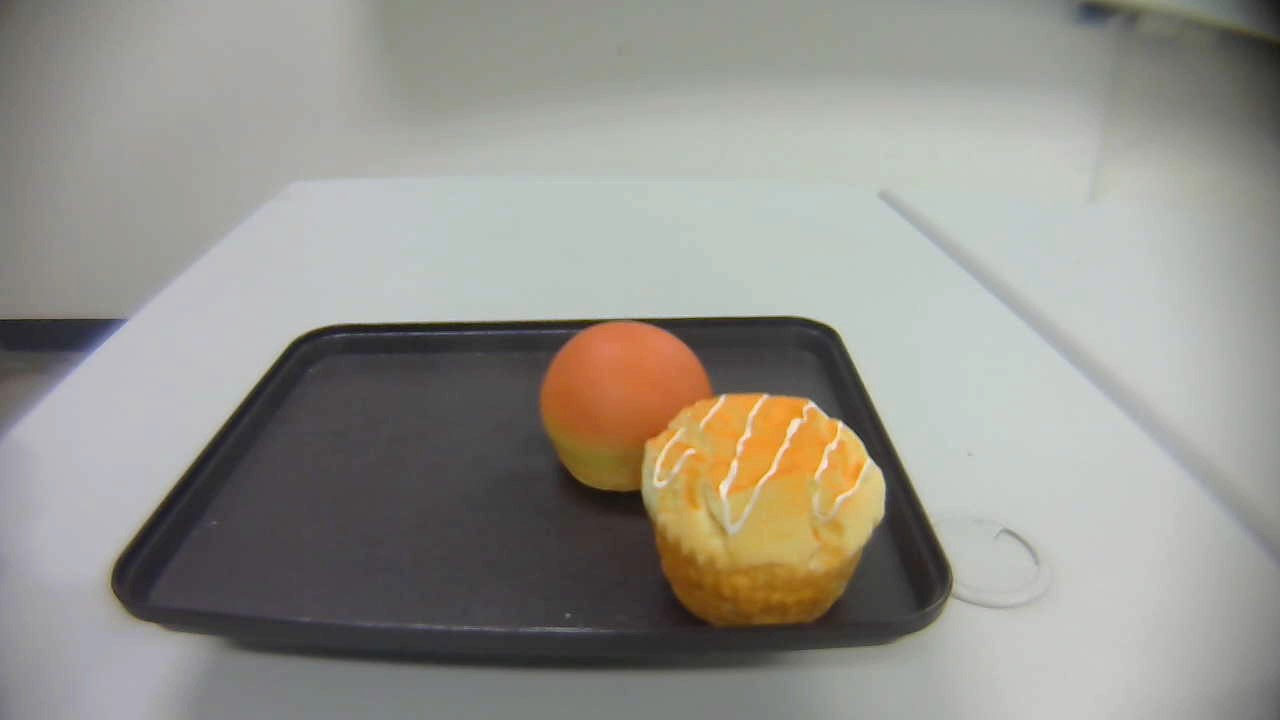bun: (539, 320, 713, 492)
cupcake: (642, 392, 886, 631)
